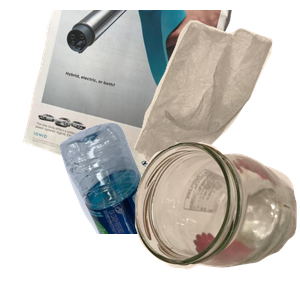glass: (132, 139, 300, 300)
paper: (20, 10, 244, 190)
plastic: (57, 120, 284, 300)
trash: (132, 17, 300, 177)
